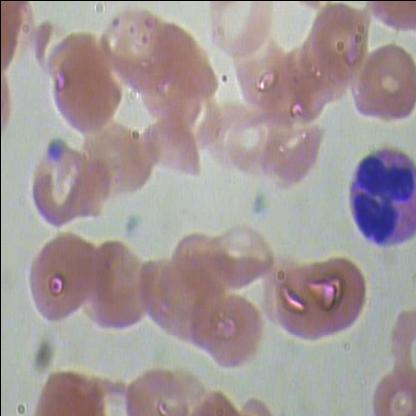Platelets: (46, 136, 64, 160)
RBC: (16, 231, 94, 331), (18, 132, 95, 232), (99, 7, 178, 100), (347, 35, 415, 138), (80, 236, 152, 330), (52, 54, 121, 138), (198, 292, 266, 376), (226, 34, 296, 112), (300, 255, 368, 334), (204, 225, 272, 294), (135, 114, 203, 182), (256, 122, 324, 190), (123, 356, 193, 415), (218, 111, 268, 175), (367, 367, 415, 415)
WBC: (337, 142, 415, 250)
